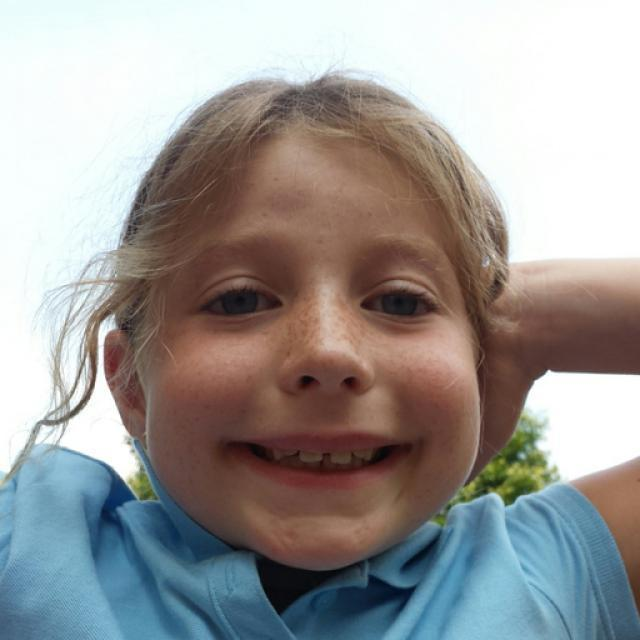0_rostro_limpio: (105, 77, 482, 569)
